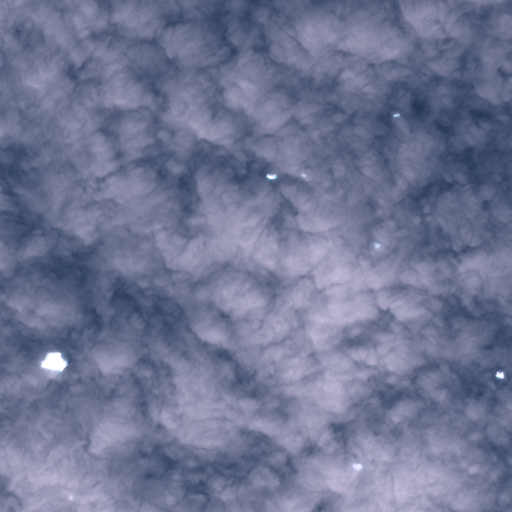Iceberg: (41, 352, 67, 371), (495, 371, 504, 378), (353, 463, 362, 470), (266, 173, 276, 179), (375, 242, 380, 247), (393, 113, 399, 116), (69, 496, 72, 499), (301, 174, 305, 176)
